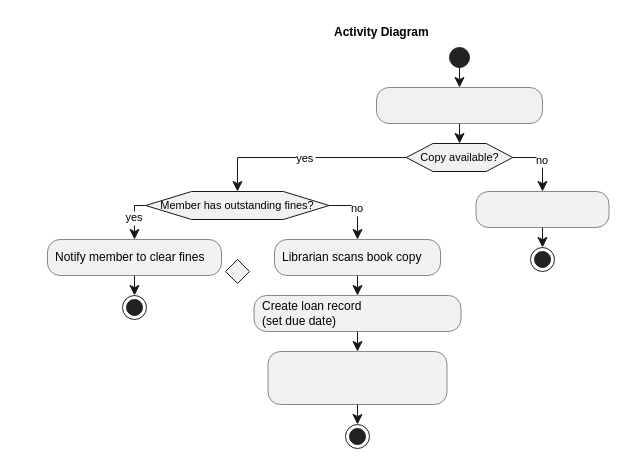
Some shapes in this 626 by 466 pixel diagram are drawn without their labels. Here are the shapes that lost their labels. From the top down, the centre of each, then its label:
At pixel 459 105: "Member searches for book".
At pixel 542 209: "Offer to reserve book".
At pixel 357 377: "Update book copy status to :Issue receipt to member".
